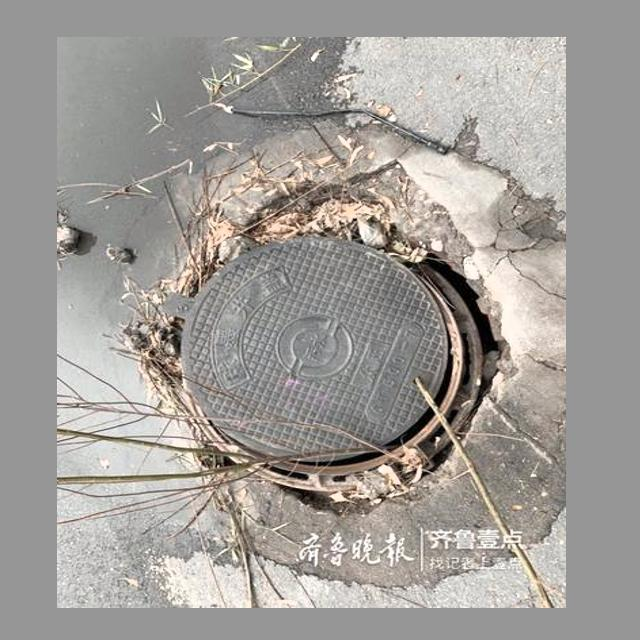circle: (108, 118, 559, 578)
